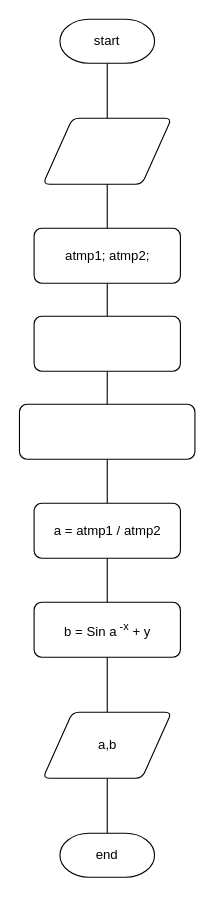
Some shapes in this 215 by 897 pixel diagram are drawn without their labels. Each missing label, with the box of its shape:
atmp1 = y - Sqrt(|x| 3 ): (33, 315, 180, 371)
atmp2 = Sqrt(x 3 ) + 5y -z +z 2: (18, 403, 195, 459)
x є Z y є Z z є Z: (42, 117, 172, 184)
